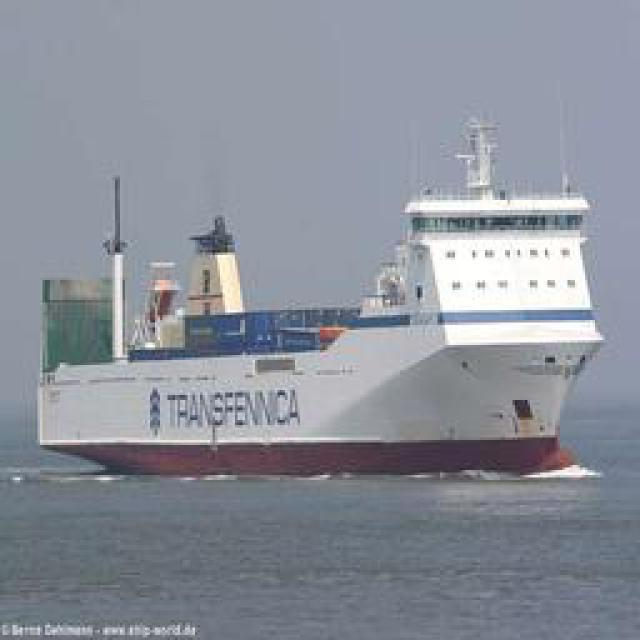Ship: (32, 106, 602, 474)
